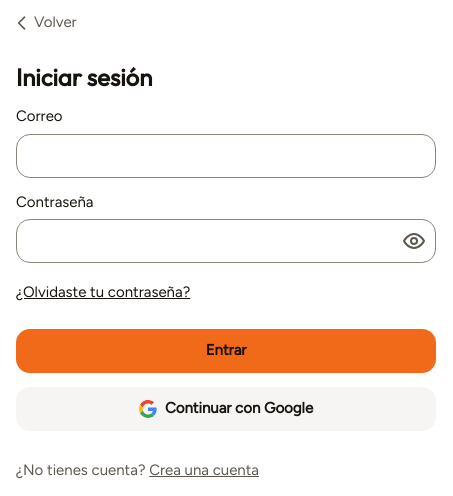
Test: iniciar sesión › mientras entra el botón dice «Entrando…» y no se puede volver a enviar
The image size is (453, 496).
Type "ana@correo.co" into the field labelled "Correo" at (226, 156), box x1=16 y1=134 x2=436 y2=178
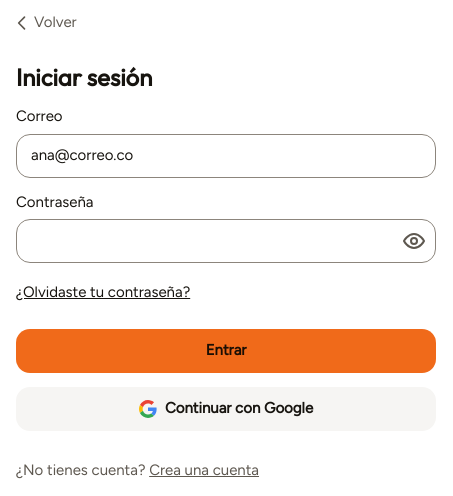
Type "una clave larga" into the password field labelled "Contraseña" at (226, 241), box x1=16 y1=219 x2=436 y2=263
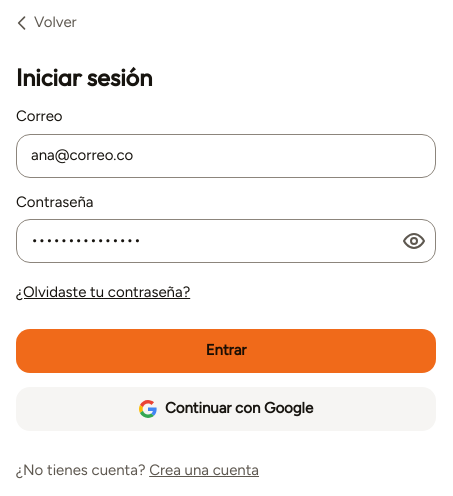
Click the button "Entrar" at (226, 351), box x1=16 y1=329 x2=436 y2=373
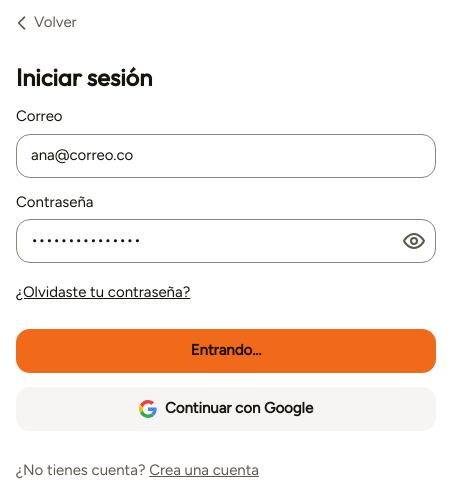
Check: the button "Entrando…" is disabled, box x1=16 y1=329 x2=436 y2=373
